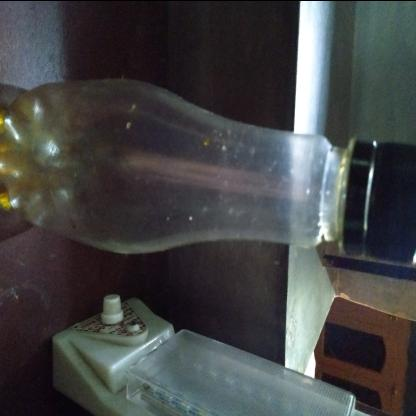bottle: (1, 79, 416, 259)
